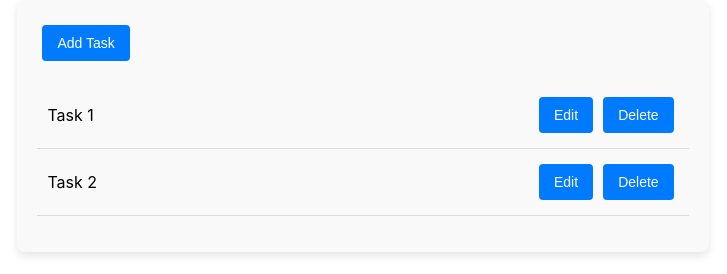
Test: TaskList Component › deletes a task
expect the text "Task 1" is shown: met, box [47,105,94,125]
Click the button "Delete" in the row of "Task 1" at (638, 115), box [603,97,674,133]
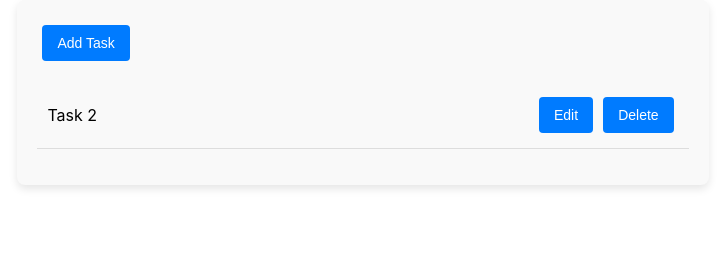
expect the text "Task 1" is gone: met
